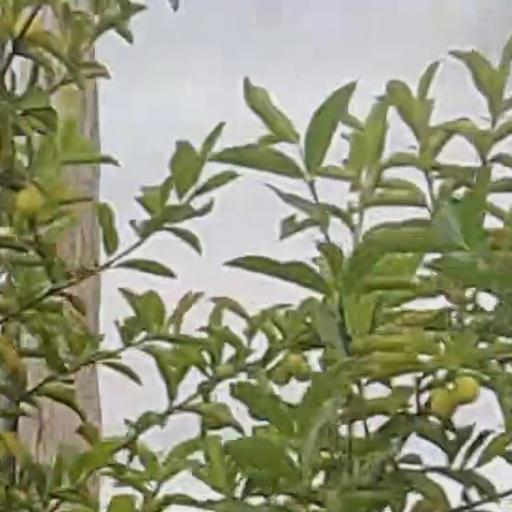acerola: (19, 191, 46, 214), (432, 391, 453, 418), (455, 377, 476, 403)
